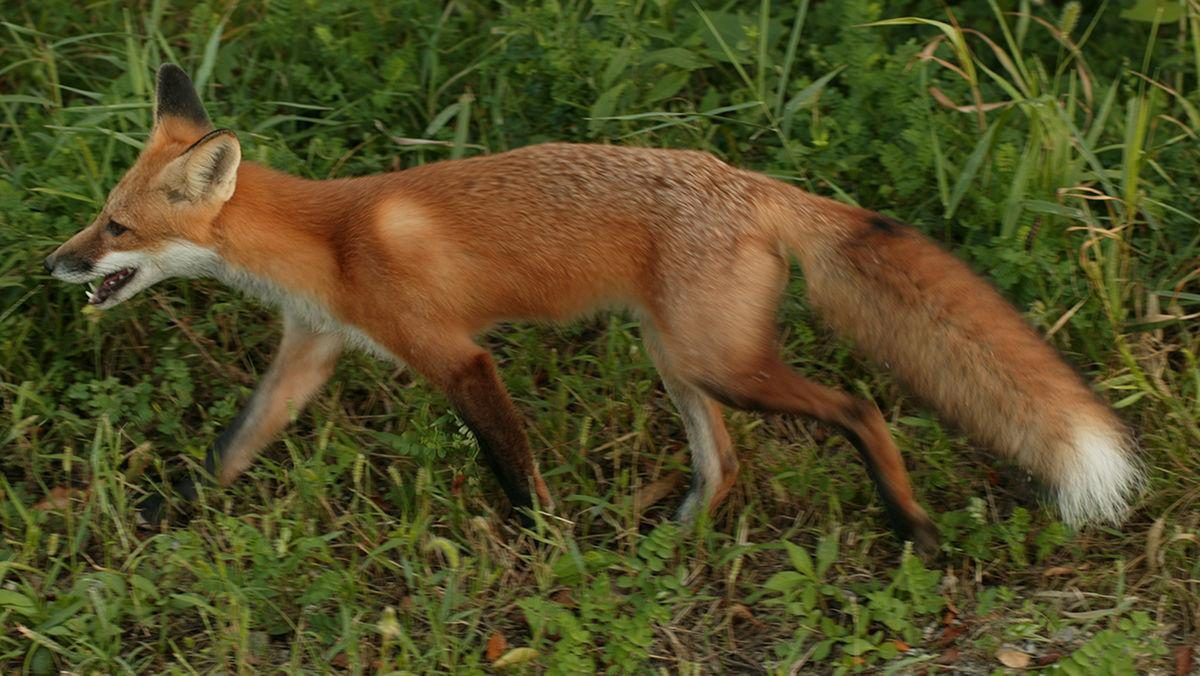fox: (40, 61, 1157, 576)
